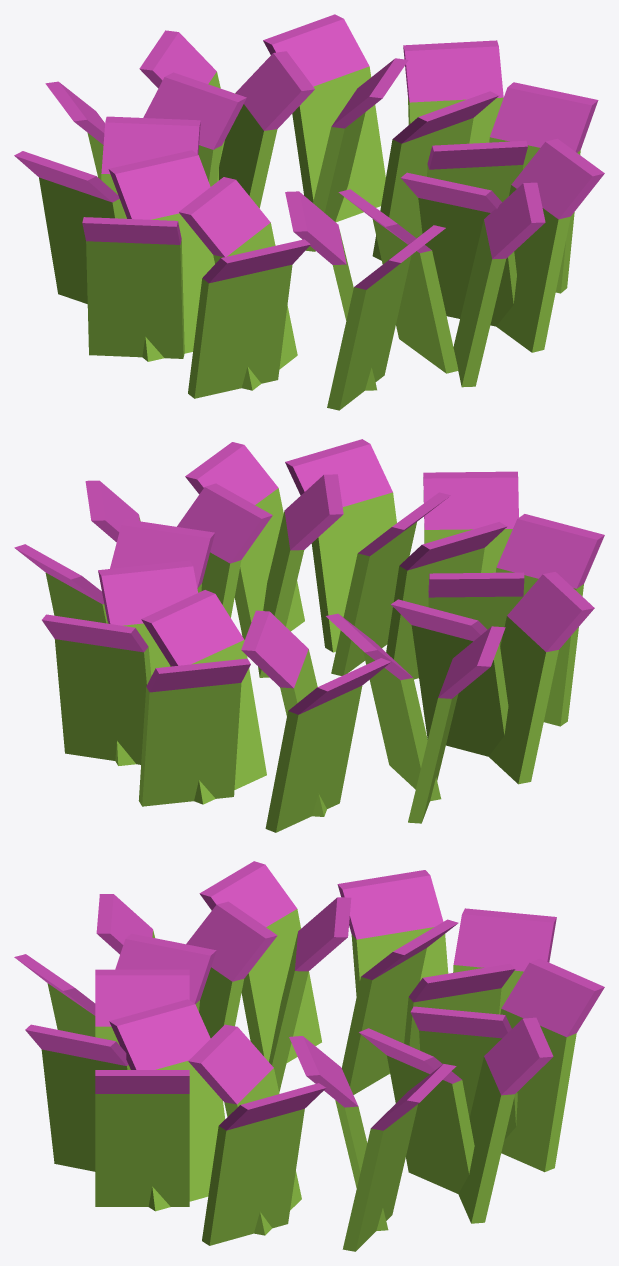
File: Plant_5.fbx
The picture shows the model from 3 angles, top to bottom: view 1: azimuth 30°, elevation 25°; view 2: azimuth 150°, elevation 25°; view 3: azimuth 270°, elevation 25°; orthographic projection.
Parts seen in each view (by area): view 1: Plant_5; view 2: Plant_5; view 3: Plant_5.
Part boxes in pixels (x1,y1,x2,y2): Plant_5: (14, 14, 604, 410); Plant_5: (14, 439, 604, 832); Plant_5: (14, 861, 604, 1251).
Bounding box in the file's own units: 108 × 32.64 × 109.
